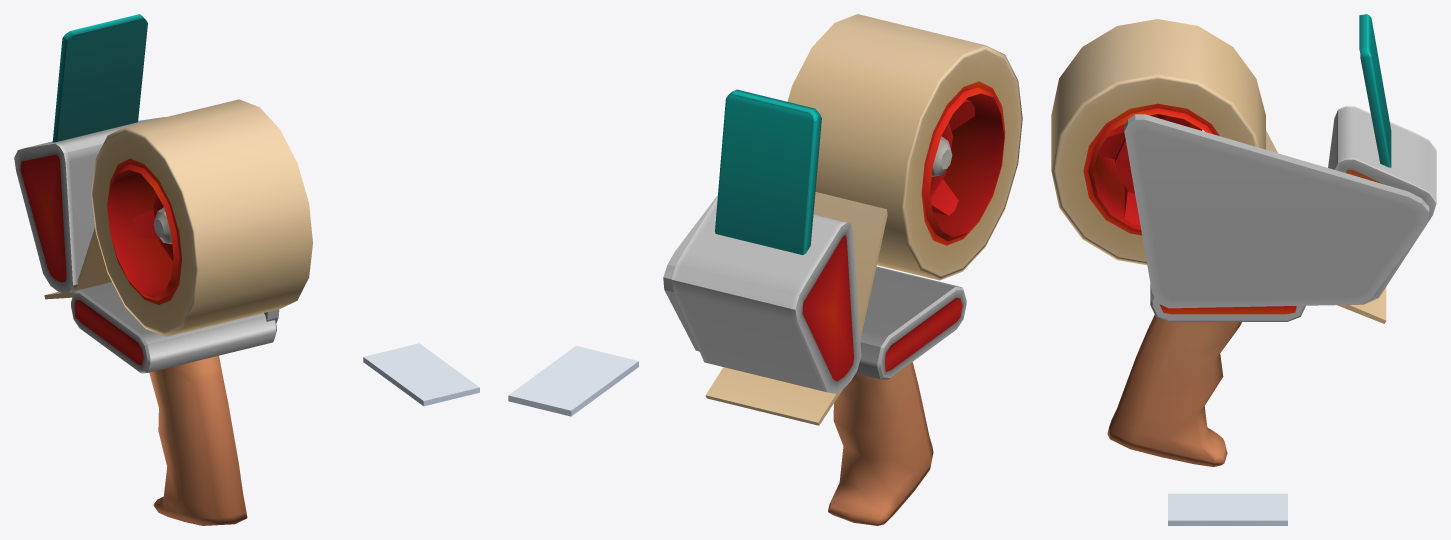
File: Dispensers.fbx
The picture shows the model from 3 angles, left to right: view 1: azimuth 30°, elevation 25°; view 2: azimuth 150°, elevation 25°; view 3: azimuth 270°, elevation 25°; orthographic projection. The views are drawn at different scales.
Visible parts, largest first — view 1: polySurface19, polySurface12, polySurface15, polySurface20, polySurface23, polySurface31, polySurface22, polySurface21, polySurface18, polySurface14; view 2: polySurface19, polySurface23, polySurface15, polySurface12, polySurface18, polySurface20, polySurface31, polySurface22, polySurface21, polySurface14, polySurface10; view 3: polySurface10, polySurface19, polySurface12, polySurface23, polySurface31, polySurface15, polySurface20, polySurface14, polySurface18.
Boxes of the visible parts, <box> form: polySurface19: <box>91,99,312,336</box>; polySurface12: <box>149,355,247,525</box>; polySurface15: <box>52,14,147,142</box>; polySurface20: <box>71,282,276,373</box>; polySurface23: <box>14,117,165,293</box>; polySurface31: <box>363,343,479,406</box>; polySurface22: <box>20,154,66,282</box>; polySurface21: <box>74,300,143,365</box>; polySurface18: <box>44,227,111,299</box>; polySurface14: <box>133,194,173,260</box>; polySurface19: <box>787,14,1022,280</box>; polySurface23: <box>671,197,861,393</box>; polySurface15: <box>715,89,821,254</box>; polySurface12: <box>828,362,933,525</box>; polySurface18: <box>705,192,887,425</box>; polySurface20: <box>856,266,966,379</box>; polySurface31: <box>508,346,638,416</box>; polySurface22: <box>802,235,853,381</box>; polySurface21: <box>885,298,962,371</box>; polySurface14: <box>930,100,974,215</box>; polySurface10: <box>663,195,717,351</box>; polySurface10: <box>1124,114,1429,308</box>; polySurface19: <box>1051,19,1265,265</box>; polySurface12: <box>1107,315,1241,466</box>; polySurface23: <box>1328,106,1436,304</box>; polySurface31: <box>1168,493,1287,525</box>; polySurface15: <box>1359,14,1391,167</box>; polySurface20: <box>1150,283,1305,321</box>; polySurface14: <box>1097,114,1202,225</box>; polySurface18: <box>1266,130,1386,323</box>.
Size of the model in its own units: 3.79 by 4.53 by 3.7.
Materials: 1 (1 with a texture image).
